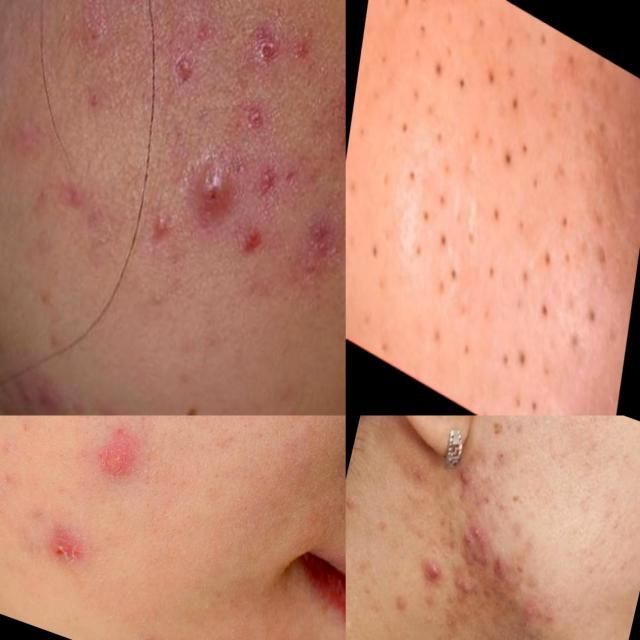Pimples: (172, 136, 249, 250), (385, 0, 463, 104), (408, 224, 478, 314), (412, 165, 464, 270), (92, 427, 148, 508), (537, 199, 583, 290), (392, 69, 432, 151), (50, 164, 99, 228), (494, 324, 536, 392), (458, 524, 503, 584), (448, 46, 479, 114), (410, 553, 454, 600), (529, 280, 562, 340), (454, 316, 486, 376), (502, 74, 532, 132), (146, 205, 180, 255), (478, 49, 507, 102), (494, 134, 522, 184), (486, 188, 510, 236), (362, 226, 385, 272), (480, 251, 504, 295), (460, 466, 481, 512), (514, 252, 534, 296), (456, 581, 482, 612)
